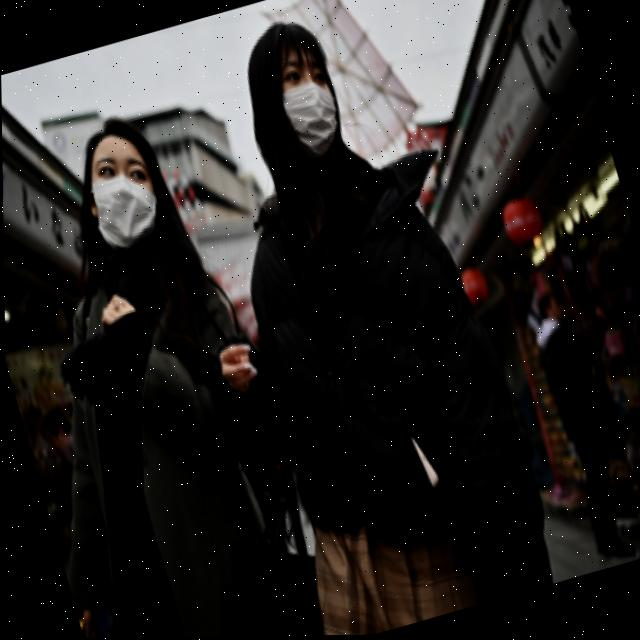Mask: (269, 71, 347, 165), (86, 168, 167, 250)
